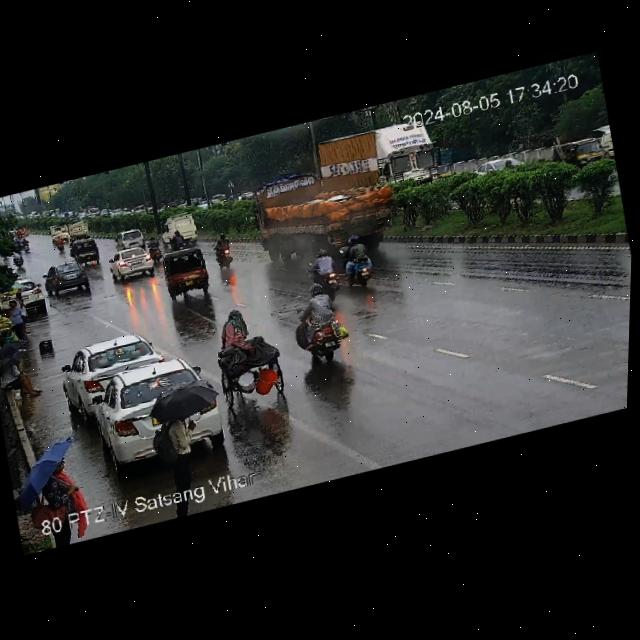car: (82, 353, 216, 438), (204, 300, 297, 411), (59, 328, 165, 410), (158, 245, 214, 298), (44, 255, 93, 300), (555, 132, 612, 169), (108, 243, 159, 284), (159, 212, 201, 249), (70, 235, 103, 267), (117, 226, 149, 250), (67, 218, 89, 239), (49, 224, 70, 245)
motorcycle: (292, 277, 344, 371), (338, 232, 379, 295), (301, 239, 340, 301), (212, 230, 242, 271), (167, 227, 203, 253), (55, 236, 66, 255)
person: (141, 380, 227, 470), (24, 453, 86, 552), (0, 356, 44, 405), (6, 294, 34, 342), (13, 288, 35, 338)
truck: (250, 156, 389, 270), (318, 108, 452, 216)
